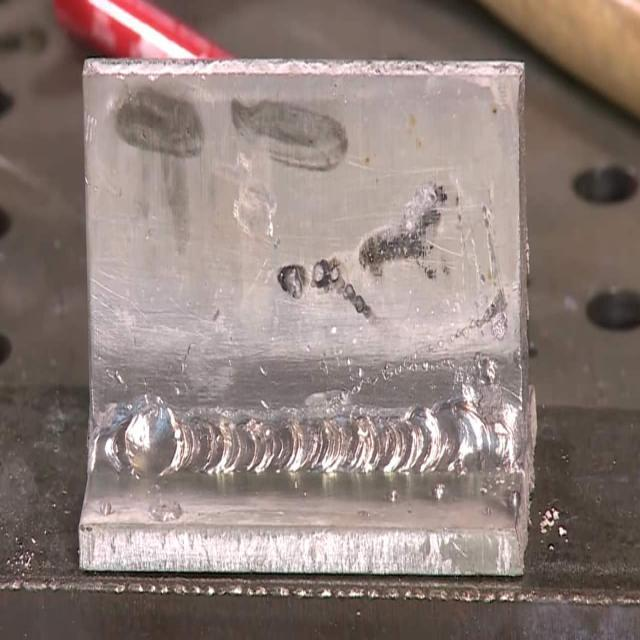Good Welding: (91, 396, 518, 478)
